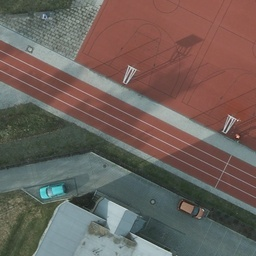car: (178, 199, 203, 220), (40, 182, 67, 200)
